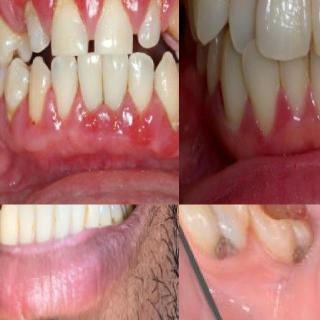Gum Swelling: (264, 85, 320, 154), (90, 94, 148, 159), (34, 95, 88, 163), (81, 0, 173, 32), (149, 90, 179, 162), (11, 0, 75, 33), (0, 99, 31, 159)
cavities: (288, 248, 306, 260)
maligned: (237, 38, 278, 126), (223, 0, 263, 51), (195, 0, 232, 34)
stains: (106, 206, 122, 240), (81, 205, 94, 229), (48, 214, 59, 237)
